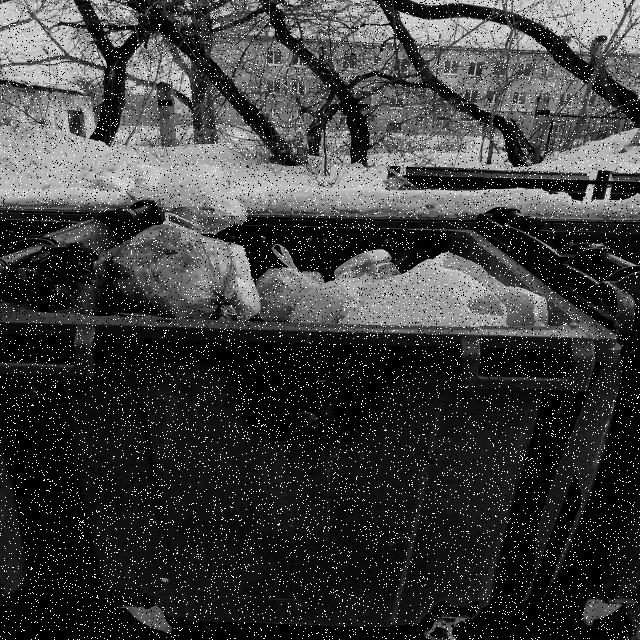Trashcan: (21, 151, 630, 640)
